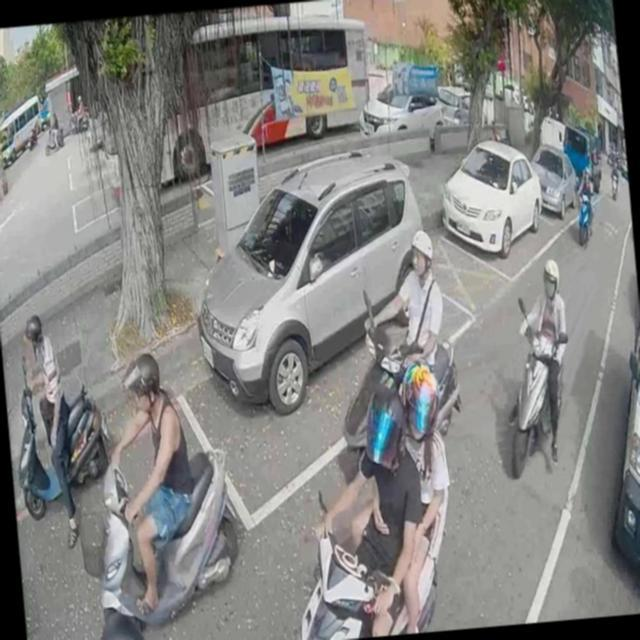person: (335, 335, 468, 636), (291, 370, 431, 640), (97, 345, 204, 624), (497, 250, 579, 468), (357, 222, 451, 386), (16, 314, 78, 538), (94, 601, 150, 640), (574, 167, 598, 242), (48, 111, 61, 148), (26, 128, 33, 140)
